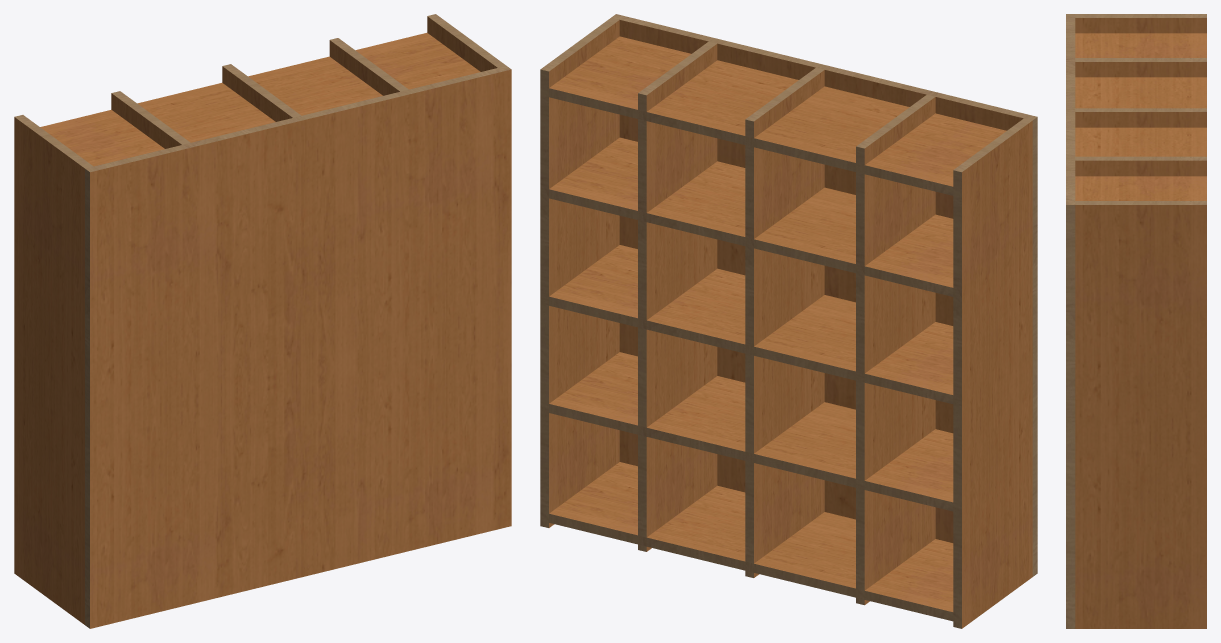
The model's file is self1.FBX.
3 views of the same model, side by side, from view 1: azimuth 30°, elevation 25°; view 2: azimuth 150°, elevation 25°; view 3: azimuth 270°, elevation 25° (orthographic). The views are drawn at different scales.
Visible parts, largest first — view 1: self1; view 2: self1; view 3: self1.
Part boxes in pixels (box(x1,y1,x2,y2)): self1: box(14, 14, 511, 628); self1: box(540, 14, 1037, 628); self1: box(1066, 14, 1206, 628).
Bounding box in the file's own units: 14.52 × 15.03 × 4.52.
